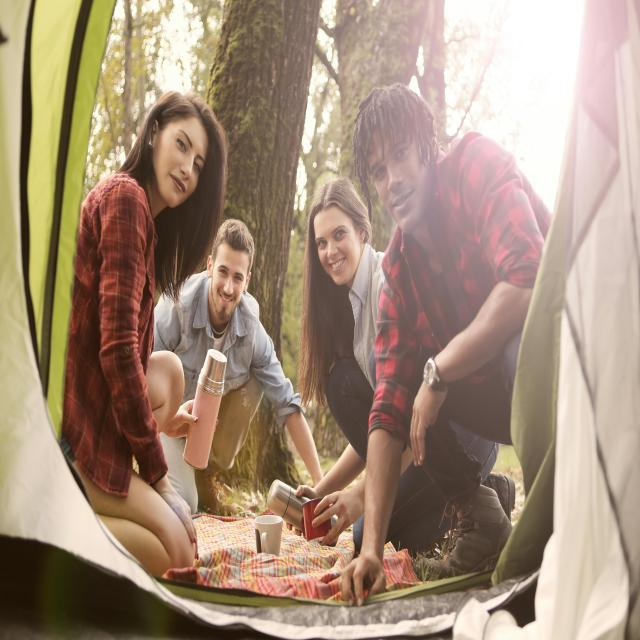sit: (345, 85, 549, 600), (300, 174, 509, 599), (61, 89, 210, 591), (135, 220, 283, 522)
